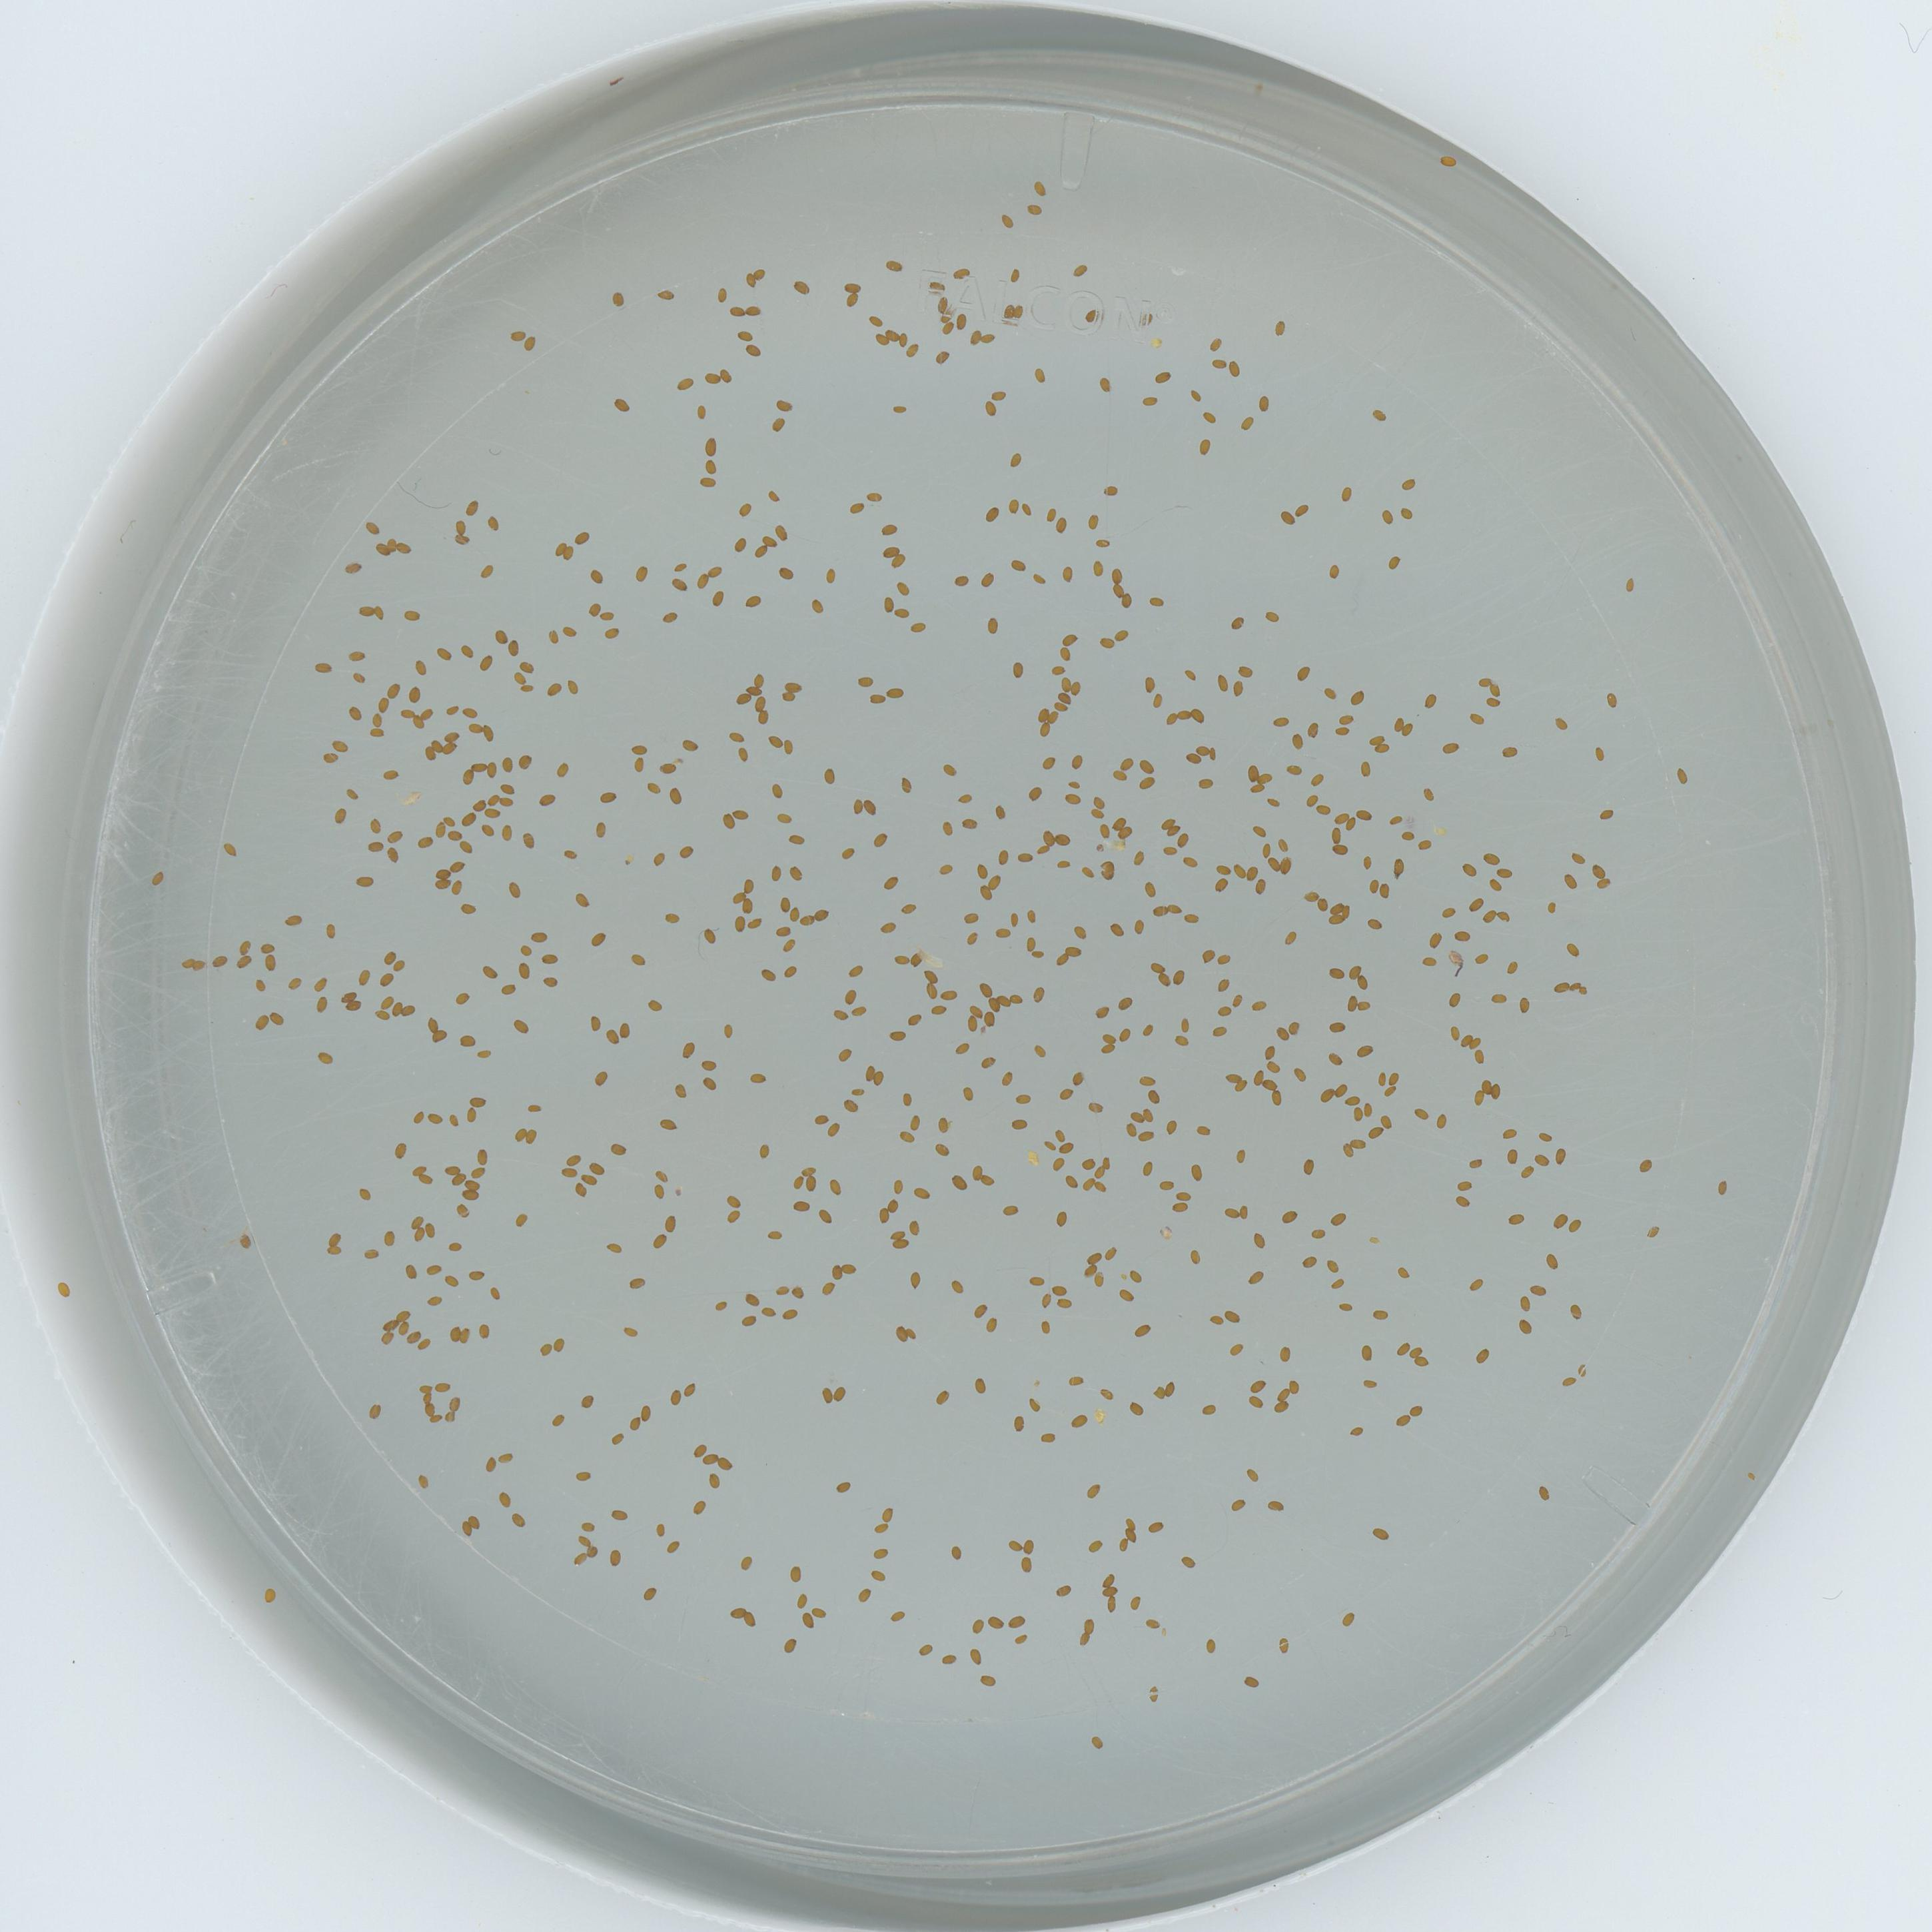seed: (1095, 860, 1116, 883), (701, 435, 722, 455), (1389, 858, 1408, 878), (1081, 306, 1100, 326), (1131, 1318, 1150, 1338), (1069, 1408, 1088, 1428), (1279, 1205, 1299, 1224), (1353, 1039, 1375, 1056), (633, 564, 653, 582), (345, 704, 364, 722), (504, 639, 522, 658), (476, 653, 495, 671), (709, 589, 729, 607), (793, 278, 812, 295), (504, 881, 524, 899), (665, 787, 685, 805), (260, 955, 278, 975), (662, 1214, 679, 1233), (787, 1564, 807, 1582), (587, 1157, 607, 1175), (1465, 895, 1484, 913), (1152, 366, 1171, 384), (1453, 925, 1472, 943), (1253, 395, 1272, 412), (1293, 663, 1313, 681), (1440, 740, 1460, 757), (977, 570, 996, 587), (1327, 1208, 1346, 1226), (1504, 1145, 1522, 1164), (1274, 1345, 1293, 1362), (1007, 1612, 1026, 1629), (1543, 1253, 1562, 1270), (1116, 1284, 1136, 1302), (1249, 1375, 1269, 1392), (1246, 1267, 1265, 1284), (1392, 1339, 1412, 1357), (1185, 1162, 1205, 1180), (883, 874, 901, 892), (678, 844, 695, 862), (678, 373, 695, 391), (331, 736, 349, 754), (591, 929, 609, 947), (681, 736, 699, 754), (872, 832, 890, 849), (600, 789, 617, 807), (766, 732, 784, 750), (366, 817, 384, 835), (745, 341, 763, 359), (593, 821, 610, 839), (745, 593, 763, 610), (564, 678, 582, 695), (870, 690, 888, 708), (736, 747, 754, 764), (863, 800, 881, 817), (433, 1376, 451, 1394), (870, 1566, 888, 1583), (692, 1499, 709, 1516), (591, 1067, 609, 1085), (816, 1205, 833, 1223), (639, 1403, 656, 1421), (474, 1148, 492, 1166), (879, 1504, 897, 1522), (651, 1230, 669, 1247), (607, 1550, 625, 1568), (701, 1072, 718, 1090), (906, 1269, 924, 1286), (738, 1553, 755, 1571), (379, 1228, 396, 1246), (947, 1171, 964, 1189), (1277, 508, 1295, 525), (984, 504, 1001, 522), (1366, 915, 1384, 932), (1024, 786, 1042, 803), (1014, 849, 1031, 867), (1003, 909, 1021, 927), (1338, 485, 1355, 502), (1139, 881, 1157, 899), (1277, 858, 1295, 876), (1189, 708, 1207, 725), (1230, 862, 1247, 879), (1003, 497, 1021, 515), (1010, 1412, 1028, 1430), (966, 1647, 984, 1665), (1127, 1594, 1145, 1612), (1378, 1111, 1396, 1129), (1516, 1316, 1534, 1334), (1051, 1208, 1069, 1226), (1116, 994, 1134, 1012), (1530, 1279, 1548, 1297), (1552, 1210, 1569, 1228), (1325, 1047, 1343, 1065), (1299, 1157, 1316, 1175), (1054, 1295, 1072, 1313), (529, 927, 548, 943), (658, 761, 678, 777), (844, 276, 863, 292), (313, 658, 333, 674), (545, 679, 564, 695), (612, 396, 632, 412), (416, 835, 435, 851), (283, 911, 303, 927), (952, 264, 971, 280), (879, 596, 899, 612), (467, 1265, 487, 1281), (628, 1272, 648, 1288), (609, 1139, 628, 1155), (1008, 662, 1028, 678), (1346, 690, 1366, 706), (1270, 713, 1290, 729), (1460, 863, 1479, 879), (1483, 851, 1502, 867), (1325, 911, 1345, 927), (1336, 711, 1355, 727), (1051, 954, 1070, 970), (1157, 1175, 1177, 1191), (1357, 1343, 1376, 1359), (1223, 1306, 1242, 1322), (1136, 1159, 1155, 1175), (1445, 991, 1465, 1007), (1516, 1295, 1536, 1311), (1060, 1173, 1079, 1189), (1552, 1146, 1571, 1162), (883, 541, 901, 557), (934, 350, 952, 366), (741, 876, 757, 893), (787, 867, 805, 883), (386, 679, 402, 697), (349, 648, 366, 663), (405, 686, 423, 702), (320, 750, 338, 766), (732, 536, 750, 552), (331, 809, 349, 824), (867, 488, 885, 504), (738, 326, 755, 341), (517, 754, 534, 770), (541, 948, 559, 964), (786, 678, 803, 694), (893, 580, 911, 596), (755, 711, 773, 727), (402, 607, 419, 623), (412, 660, 428, 678), (573, 529, 591, 545), (858, 674, 876, 690), (494, 626, 510, 644), (357, 602, 375, 617), (630, 741, 648, 757), (386, 828, 403, 844), (936, 862, 954, 878), (934, 294, 950, 311), (888, 683, 906, 699), (464, 722, 481, 738), (881, 918, 899, 934), (343, 787, 361, 803), (778, 564, 796, 580), (708, 563, 725, 579), (587, 568, 605, 584), (886, 255, 904, 271), (508, 327, 525, 343), (731, 915, 748, 931), (694, 403, 711, 419), (747, 915, 764, 931), (780, 690, 798, 706), (939, 821, 955, 839), (520, 833, 538, 849), (586, 600, 603, 616), (729, 729, 747, 745), (538, 793, 556, 809), (775, 524, 793, 540), (658, 285, 676, 301), (729, 303, 747, 318), (469, 757, 487, 773), (904, 340, 922, 356), (366, 839, 384, 855), (672, 577, 690, 593), (849, 499, 867, 515), (899, 778, 916, 794), (554, 763, 571, 778), (775, 396, 793, 412), (768, 867, 786, 883), (464, 499, 481, 515), (444, 702, 462, 718), (354, 874, 372, 890), (380, 950, 398, 966), (702, 458, 720, 474), (720, 814, 738, 830), (823, 570, 840, 586), (258, 938, 276, 954), (646, 780, 663, 796), (485, 515, 502, 531), (823, 768, 839, 786), (775, 897, 793, 913), (766, 488, 784, 504), (368, 727, 386, 743), (221, 842, 239, 858), (929, 1000, 947, 1016), (924, 984, 941, 1000), (729, 1603, 747, 1619), (932, 1139, 950, 1155), (939, 985, 957, 1001), (311, 996, 329, 1012), (874, 1545, 892, 1560), (315, 1047, 333, 1063), (651, 1522, 669, 1537), (679, 1042, 697, 1058), (750, 1067, 768, 1083), (906, 1217, 924, 1233), (586, 1016, 603, 1031), (837, 1044, 855, 1060), (793, 1196, 810, 1212), (446, 1394, 464, 1410), (844, 987, 862, 1003), (510, 1511, 527, 1527), (890, 1177, 908, 1192), (775, 1279, 793, 1295), (579, 1392, 596, 1408), (906, 1010, 924, 1026), (851, 1001, 869, 1017), (821, 1279, 839, 1295), (402, 1263, 419, 1279), (934, 1387, 950, 1405), (610, 1506, 628, 1522), (379, 1330, 396, 1346), (667, 1387, 683, 1405), (782, 1638, 800, 1654), (672, 1081, 690, 1097), (441, 1272, 458, 1288), (391, 1143, 409, 1159), (425, 1260, 442, 1276), (913, 1182, 931, 1198), (354, 970, 372, 985), (253, 1014, 271, 1030), (800, 1612, 816, 1629), (755, 1141, 773, 1157), (513, 1017, 531, 1033), (458, 1031, 476, 1047), (708, 1472, 724, 1490), (663, 1537, 681, 1553), (725, 1191, 743, 1207), (741, 1311, 759, 1327), (446, 1238, 464, 1254), (660, 1113, 678, 1129), (828, 1177, 846, 1192), (55, 1281, 73, 1297), (258, 1587, 276, 1603), (994, 849, 1012, 865), (1378, 508, 1394, 525), (1067, 754, 1085, 770), (1421, 694, 1438, 709), (1426, 931, 1444, 947), (1263, 796, 1281, 812), (1304, 722, 1322, 738), (1146, 594, 1164, 610), (1440, 904, 1458, 920), (1106, 566, 1123, 582), (1281, 929, 1299, 945), (1108, 920, 1125, 936), (1053, 832, 1070, 847), (1180, 855, 1198, 870), (1063, 793, 1081, 809), (1088, 561, 1106, 577), (1021, 936, 1039, 952), (1138, 757, 1154, 775), (1008, 557, 1026, 573), (1116, 754, 1134, 770), (1047, 662, 1065, 678), (1196, 775, 1214, 791), (1200, 409, 1217, 425), (1054, 646, 1072, 662), (1591, 863, 1608, 879), (1237, 662, 1253, 679), (1288, 734, 1306, 750), (1030, 366, 1047, 382), (1562, 874, 1580, 890), (1254, 842, 1270, 860), (1302, 888, 1320, 904), (1355, 807, 1373, 823), (1674, 768, 1691, 784), (1598, 807, 1615, 823), (1129, 851, 1146, 867), (1007, 451, 1024, 467), (1500, 745, 1518, 761), (1249, 823, 1267, 839), (1214, 674, 1230, 692), (1226, 361, 1244, 377), (1479, 908, 1497, 924), (1063, 941, 1081, 957), (1139, 674, 1155, 692), (1024, 200, 1042, 216), (1566, 939, 1582, 957), (1198, 947, 1215, 962), (1230, 679, 1246, 697), (1355, 761, 1373, 777), (1244, 764, 1260, 782), (1030, 179, 1047, 195), (1031, 708, 1049, 724), (1476, 674, 1493, 690), (1079, 1155, 1097, 1171), (1210, 1023, 1228, 1039), (1049, 1154, 1065, 1171), (1532, 1152, 1550, 1168), (1329, 1017, 1346, 1033), (1490, 989, 1507, 1005), (1534, 1484, 1552, 1500), (1334, 1079, 1350, 1097), (1136, 1069, 1154, 1085), (1037, 1428, 1054, 1444), (1053, 1582, 1070, 1598), (1412, 1104, 1430, 1120), (1230, 1495, 1247, 1511), (1339, 1612, 1357, 1628), (977, 980, 993, 998), (1290, 1065, 1307, 1081), (1371, 1525, 1389, 1541), (1366, 1125, 1384, 1141), (1336, 1299, 1353, 1315), (1507, 1208, 1525, 1224), (1474, 1346, 1491, 1362), (1260, 1044, 1277, 1060), (1247, 1392, 1263, 1410), (1067, 1069, 1085, 1085), (998, 1069, 1016, 1085), (1056, 1085, 1074, 1100), (1017, 1555, 1033, 1573), (1714, 1178, 1732, 1194), (1261, 1076, 1279, 1092), (1249, 1231, 1267, 1247), (1299, 1253, 1316, 1269), (1267, 1497, 1284, 1513), (1242, 1674, 1260, 1690), (1083, 1483, 1100, 1499), (1467, 1154, 1484, 1169), (1394, 1412, 1412, 1428), (1085, 1537, 1102, 1553), (1343, 1092, 1361, 1108), (1456, 1177, 1474, 1192), (978, 1672, 996, 1688), (1125, 1399, 1143, 1415), (1267, 1088, 1284, 1104), (1065, 1371, 1083, 1387), (1371, 1304, 1389, 1320), (1568, 1217, 1585, 1233), (1327, 966, 1345, 982), (1274, 1638, 1292, 1654), (1520, 1162, 1537, 1178), (1085, 1099, 1102, 1115), (978, 1171, 996, 1187), (1169, 1198, 1187, 1214), (1221, 1203, 1238, 1219), (193, 957, 211, 973), (1145, 1688, 1162, 1704), (432, 819, 446, 839), (458, 812, 478, 826), (517, 961, 531, 980), (460, 1191, 479, 1205), (1472, 1088, 1486, 1108), (901, 901, 916, 916), (462, 704, 478, 720), (715, 287, 731, 303), (458, 842, 474, 858), (575, 893, 591, 909), (867, 311, 883, 327), (754, 697, 770, 713), (651, 851, 667, 867), (883, 520, 899, 536), (545, 630, 561, 646), (741, 899, 757, 915), (322, 922, 338, 938), (501, 757, 517, 773), (734, 807, 750, 823), (701, 476, 717, 492), (435, 646, 451, 662), (771, 416, 787, 432), (350, 671, 366, 686), (704, 370, 720, 386), (770, 784, 786, 800), (451, 860, 467, 876), (375, 697, 391, 713), (702, 927, 718, 943), (458, 770, 474, 786), (455, 533, 471, 548), (849, 800, 865, 816), (789, 832, 805, 847), (939, 320, 955, 336), (782, 740, 798, 755), (816, 906, 832, 922), (810, 598, 826, 614), (421, 747, 437, 763), (777, 812, 793, 828), (384, 847, 400, 863), (954, 571, 970, 587), (524, 334, 540, 350), (718, 366, 734, 382), (846, 292, 862, 308), (479, 823, 495, 839), (632, 759, 648, 775), (610, 290, 626, 306), (481, 725, 497, 741), (899, 1129, 915, 1145), (683, 1380, 699, 1396), (580, 1516, 596, 1532), (791, 1173, 807, 1189), (476, 1322, 492, 1338), (858, 1587, 874, 1603), (793, 1283, 809, 1299), (363, 1244, 379, 1260), (287, 975, 303, 991), (462, 1106, 478, 1122), (648, 996, 663, 1012), (715, 1297, 731, 1313), (453, 1203, 469, 1219), (888, 1196, 904, 1212), (642, 1585, 658, 1601), (497, 1449, 513, 1465), (948, 1277, 964, 1293), (617, 1021, 633, 1037), (761, 966, 777, 982), (794, 1592, 810, 1608), (941, 1651, 957, 1667), (692, 1440, 708, 1456), (426, 1292, 442, 1307), (356, 1185, 372, 1201), (782, 1306, 798, 1322), (655, 1166, 671, 1182), (768, 1224, 784, 1240), (899, 1090, 915, 1106), (552, 1336, 568, 1352), (497, 1490, 513, 1506), (251, 977, 267, 993), (842, 1258, 858, 1274), (833, 1005, 849, 1021), (936, 1116, 952, 1132), (395, 1304, 410, 1320), (513, 1210, 529, 1226), (366, 1403, 382, 1419), (805, 1175, 821, 1191), (418, 1171, 433, 1187), (623, 1322, 639, 1338), (745, 1292, 761, 1307), (407, 1214, 423, 1230), (924, 968, 939, 984), (269, 1010, 285, 1026), (812, 1605, 828, 1621), (524, 1127, 540, 1143), (890, 1026, 906, 1042), (423, 1221, 439, 1237), (826, 1120, 842, 1136), (918, 1640, 934, 1656), (603, 1030, 619, 1046), (833, 1385, 849, 1401), (446, 1325, 462, 1341), (510, 1125, 525, 1141), (379, 993, 395, 1008), (414, 1474, 430, 1490), (1166, 901, 1182, 916), (1569, 851, 1585, 867), (1100, 483, 1116, 499), (987, 876, 1003, 892), (1182, 909, 1198, 925), (1196, 437, 1212, 453), (1214, 862, 1230, 878), (1398, 504, 1414, 520), (1053, 517, 1069, 533), (1322, 686, 1338, 702), (1085, 513, 1100, 529), (1131, 918, 1146, 934), (1238, 414, 1254, 430), (1332, 842, 1348, 858), (1274, 839, 1290, 855), (1417, 837, 1433, 853), (977, 886, 993, 902), (1070, 924, 1086, 939), (985, 617, 1001, 633), (1591, 745, 1606, 761), (1007, 265, 1023, 281), (1468, 709, 1484, 725), (1253, 879, 1269, 895), (1138, 777, 1154, 793), (1387, 812, 1403, 828), (1000, 212, 1016, 228), (1309, 771, 1325, 787), (1070, 260, 1086, 276), (982, 400, 998, 416), (1228, 616, 1244, 632), (1263, 609, 1279, 625), (1150, 902, 1166, 918), (1214, 879, 1230, 895), (1265, 858, 1281, 874), (1401, 474, 1417, 490), (1058, 566, 1074, 582), (1553, 717, 1569, 732), (1315, 803, 1330, 819), (1270, 318, 1286, 334), (1208, 356, 1224, 372), (991, 386, 1007, 402), (1399, 828, 1415, 844), (1187, 387, 1203, 403), (991, 803, 1007, 819), (1182, 667, 1198, 683), (1332, 809, 1348, 824), (1090, 794, 1106, 810), (1371, 407, 1387, 423), (1378, 883, 1394, 899), (973, 863, 989, 879), (1039, 755, 1054, 771), (1039, 830, 1054, 846), (1419, 787, 1435, 803), (1622, 577, 1638, 593), (1605, 692, 1621, 708), (970, 1617, 985, 1633), (1001, 1201, 1017, 1217), (1146, 1518, 1162, 1534), (1348, 1422, 1364, 1438), (1341, 996, 1357, 1012), (1139, 1021, 1155, 1037), (1145, 1088, 1161, 1104), (1058, 1139, 1074, 1155), (1162, 1118, 1178, 1134), (1010, 1115, 1026, 1131), (980, 1053, 996, 1069), (1286, 1378, 1302, 1394), (1201, 1638, 1217, 1654), (1093, 1003, 1109, 1019), (1024, 1398, 1040, 1414), (1051, 1281, 1067, 1297), (1207, 1311, 1223, 1327), (1468, 1276, 1484, 1292), (1244, 1467, 1260, 1483), (982, 1316, 998, 1332), (1088, 1734, 1104, 1750), (1309, 1224, 1325, 1240), (1568, 1302, 1583, 1318), (1233, 1146, 1249, 1162), (1249, 1070, 1265, 1086), (1012, 1631, 1028, 1647), (1185, 1247, 1201, 1263), (987, 1614, 1003, 1629), (1516, 996, 1532, 1012), (1116, 1026, 1132, 1042), (1097, 1385, 1113, 1401), (1171, 1031, 1187, 1047), (1178, 1553, 1194, 1569), (1079, 1617, 1095, 1633), (1051, 1125, 1067, 1141), (1355, 975, 1371, 991), (1408, 1401, 1424, 1417), (1638, 1155, 1654, 1171), (1007, 1537, 1023, 1553), (1037, 1318, 1053, 1334), (973, 1300, 989, 1316), (1470, 1047, 1486, 1063), (971, 1376, 987, 1392), (1433, 1111, 1449, 1127), (1645, 1223, 1661, 1238), (1102, 1244, 1118, 1260), (1357, 996, 1373, 1012), (1030, 985, 1046, 1001), (1122, 1120, 1138, 1136), (1454, 1192, 1470, 1208), (1175, 1016, 1191, 1031), (1318, 1088, 1334, 1104), (968, 1164, 984, 1180), (1141, 1106, 1157, 1122), (987, 998, 1003, 1014), (1074, 1631, 1090, 1647), (149, 870, 165, 886), (237, 1235, 253, 1251), (442, 729, 460, 743), (745, 683, 763, 697), (736, 694, 754, 708), (775, 924, 793, 938), (630, 950, 648, 964), (478, 564, 495, 579), (458, 644, 476, 658), (451, 518, 469, 533), (603, 626, 621, 640), (745, 303, 763, 317), (763, 534, 780, 548), (345, 561, 363, 575), (600, 609, 617, 623), (927, 278, 945, 292), (442, 812, 456, 830), (432, 865, 449, 879), (211, 954, 228, 968), (433, 879, 451, 893), (469, 1092, 487, 1106), (701, 1056, 718, 1070), (605, 1240, 623, 1254), (575, 1468, 593, 1483), (906, 1115, 924, 1129), (311, 977, 329, 991), (453, 991, 471, 1005), (410, 1162, 428, 1177), (444, 1161, 462, 1175), (564, 1150, 582, 1164), (476, 1044, 494, 1058), (842, 1097, 860, 1111), (525, 1099, 543, 1113), (340, 989, 357, 1003), (741, 1614, 759, 1628), (862, 1063, 876, 1081), (430, 1028, 448, 1042), (570, 1182, 587, 1196), (1325, 828, 1343, 842), (993, 925, 1010, 939), (1161, 846, 1178, 860), (1060, 632, 1077, 646), (1111, 628, 1129, 642), (1543, 901, 1560, 915), (1284, 763, 1302, 777), (1474, 950, 1491, 964), (1116, 826, 1134, 840), (1368, 731, 1385, 745), (1215, 950, 1233, 964), (1095, 377, 1113, 391), (1028, 947, 1046, 961), (1323, 564, 1341, 579), (1486, 879, 1504, 893), (1332, 725, 1350, 740), (1095, 637, 1113, 651), (1486, 683, 1504, 697), (1246, 863, 1260, 881), (1313, 897, 1330, 911), (961, 817, 978, 832), (957, 791, 975, 805), (1385, 1069, 1403, 1083), (1026, 1272, 1044, 1286), (1143, 1615, 1161, 1629), (1249, 998, 1267, 1012), (1329, 1276, 1346, 1290), (1028, 1042, 1046, 1056), (1224, 1069, 1242, 1083), (1536, 1129, 1553, 1143), (1560, 1373, 1578, 1387), (1125, 1267, 1143, 1281), (1014, 1090, 1031, 1104), (1338, 1143, 1355, 1157), (1500, 1125, 1518, 1139), (1394, 1265, 1412, 1279), (1412, 1355, 1430, 1369), (1148, 961, 1166, 975), (962, 1085, 977, 1102), (179, 957, 196, 971), (561, 1166, 580, 1178), (343, 998, 363, 1010), (966, 1014, 978, 1033), (1341, 901, 1353, 920), (499, 782, 515, 796), (364, 520, 380, 534), (510, 669, 525, 683), (382, 768, 398, 782), (487, 793, 501, 809), (449, 881, 465, 895), (729, 892, 745, 906), (563, 623, 577, 639), (941, 763, 957, 777), (375, 545, 391, 559), (743, 272, 757, 288), (842, 846, 858, 860), (787, 908, 803, 922), (460, 901, 476, 915), (890, 556, 906, 570), (485, 809, 501, 823), (446, 828, 462, 842), (419, 706, 435, 720), (517, 943, 533, 957), (663, 610, 679, 625), (893, 607, 909, 621), (370, 713, 386, 727), (874, 333, 890, 347), (237, 939, 253, 954), (396, 541, 412, 556), (754, 265, 768, 281), (895, 950, 911, 964), (518, 658, 534, 672), (754, 545, 770, 559), (563, 847, 579, 862), (485, 764, 499, 780), (663, 909, 679, 924), (909, 619, 925, 633), (782, 938, 798, 952), (738, 502, 754, 517), (471, 798, 487, 812), (695, 575, 711, 589), (499, 826, 515, 840), (499, 796, 515, 810), (674, 559, 688, 575), (752, 671, 768, 685), (890, 1610, 906, 1624), (543, 975, 559, 989), (426, 1109, 442, 1123), (481, 1456, 497, 1470), (416, 1338, 432, 1352), (471, 1166, 487, 1180), (653, 1184, 669, 1198), (626, 1415, 642, 1430), (395, 1320, 410, 1334), (550, 1412, 566, 1426), (947, 1546, 962, 1560), (837, 1479, 853, 1493), (784, 966, 800, 980), (458, 1522, 472, 1537), (446, 1111, 462, 1125), (481, 964, 497, 978), (488, 1286, 504, 1300), (586, 1545, 602, 1559), (501, 982, 517, 996), (702, 1453, 718, 1467), (725, 1208, 741, 1223), (718, 1456, 734, 1470), (761, 1304, 777, 1318), (610, 1431, 626, 1445), (878, 1207, 892, 1223), (819, 1387, 833, 1403), (851, 1083, 867, 1097), (577, 1534, 593, 1548), (410, 1108, 425, 1123), (402, 1001, 418, 1016), (893, 1325, 908, 1341), (538, 1343, 554, 1357), (849, 966, 865, 980), (874, 1520, 890, 1534), (425, 1017, 441, 1031), (379, 971, 395, 985), (327, 1230, 343, 1244), (382, 1318, 398, 1332), (469, 1514, 483, 1530), (405, 1330, 421, 1345), (904, 1325, 918, 1341), (571, 1550, 587, 1564), (460, 1329, 474, 1345), (1497, 909, 1513, 924), (1019, 502, 1035, 517), (1359, 855, 1375, 869), (1023, 909, 1039, 924), (1054, 858, 1070, 872), (1033, 844, 1049, 858), (1040, 506, 1056, 520), (1093, 536, 1109, 550), (1497, 865, 1513, 879), (1118, 594, 1134, 609), (1088, 809, 1104, 823), (1093, 824, 1109, 839), (1065, 778, 1081, 793), (1207, 336, 1223, 350), (1028, 571, 1044, 586), (1364, 879, 1378, 895), (1293, 502, 1309, 517), (1387, 556, 1401, 571), (1108, 584, 1123, 598), (1304, 793, 1320, 807), (1484, 697, 1500, 711), (1035, 724, 1051, 738), (1148, 694, 1164, 708), (966, 329, 980, 345), (966, 929, 980, 945), (1111, 770, 1127, 784), (1141, 395, 1157, 409), (1175, 833, 1191, 847), (1438, 154, 1454, 168), (1161, 713, 1177, 727), (1192, 741, 1208, 755), (1256, 771, 1272, 786), (1014, 304, 1028, 320), (980, 329, 996, 343), (1008, 989, 1024, 1003), (1100, 1571, 1116, 1585), (1023, 1537, 1037, 1553), (1214, 977, 1230, 991), (1265, 1058, 1281, 1072), (1274, 1387, 1290, 1401), (1035, 1293, 1051, 1307), (1228, 1341, 1244, 1355), (1362, 1376, 1378, 1391), (1100, 1028, 1116, 1042), (1138, 1127, 1154, 1141), (1553, 978, 1569, 993), (1286, 1019, 1302, 1033), (1162, 1382, 1178, 1396), (982, 1010, 996, 1026), (1194, 1122, 1210, 1136), (1200, 1401, 1215, 1415), (1085, 1247, 1100, 1261), (1077, 1177, 1093, 1191), (1215, 1003, 1231, 1017), (1447, 1026, 1461, 1042), (1237, 1203, 1251, 1219), (1490, 1083, 1506, 1097), (1154, 973, 1169, 987), (1274, 1026, 1290, 1040), (1042, 1138, 1058, 1152), (1408, 1343, 1424, 1357), (1171, 970, 1187, 984), (1233, 1079, 1249, 1093), (968, 1001, 982, 1017), (1104, 1598, 1118, 1614), (1323, 1258, 1339, 1272), (1230, 993, 1246, 1007), (1350, 1134, 1366, 1148), (1090, 1272, 1106, 1286), (1083, 1263, 1099, 1277), (1578, 982, 1594, 996), (1000, 304, 1014, 320), (1138, 313, 1154, 327), (441, 743, 458, 755), (416, 1382, 433, 1394), (893, 1237, 911, 1249), (1184, 755, 1201, 768), (1173, 1187, 1191, 1200), (1378, 1085, 1396, 1097), (419, 1394, 437, 1407), (235, 957, 255, 968), (909, 952, 924, 966), (816, 1109, 830, 1123), (874, 1070, 888, 1085), (722, 1023, 736, 1037), (410, 1228, 425, 1242), (955, 1040, 970, 1054), (389, 1003, 403, 1017), (327, 1244, 341, 1258), (1111, 816, 1125, 830), (964, 911, 978, 925), (1401, 724, 1415, 738), (1056, 678, 1070, 692), (1345, 817, 1359, 832), (1069, 681, 1083, 695), (1389, 718, 1403, 732), (1329, 901, 1343, 915), (1362, 1100, 1376, 1115), (1115, 1537, 1129, 1552), (1350, 1108, 1364, 1122), (1093, 1178, 1108, 1192), (1373, 1072, 1387, 1086), (1129, 1109, 1143, 1123), (1100, 1154, 1115, 1168), (1092, 1164, 1106, 1178), (1575, 1362, 1589, 1376), (1122, 1516, 1136, 1530), (998, 994, 1012, 1008), (1470, 1035, 1484, 1049), (396, 708, 412, 720), (410, 718, 426, 731), (892, 402, 908, 414), (518, 683, 534, 695), (373, 605, 386, 621), (373, 1008, 389, 1021), (442, 1410, 458, 1422), (582, 1173, 598, 1185), (832, 1263, 844, 1279), (465, 1178, 481, 1191), (1175, 708, 1191, 720), (1077, 867, 1093, 879), (1166, 826, 1182, 839), (1596, 878, 1612, 890), (1373, 743, 1389, 755), (1161, 817, 1177, 830), (1208, 747, 1221, 763), (1272, 1401, 1288, 1414), (1346, 966, 1362, 978), (1247, 786, 1265, 796), (899, 331, 909, 349), (801, 915, 816, 927), (428, 738, 442, 750), (886, 329, 899, 343), (563, 545, 575, 559), (423, 1403, 435, 1417), (451, 1173, 465, 1185), (801, 1162, 816, 1175), (1047, 711, 1062, 724), (1058, 692, 1072, 704), (1479, 1079, 1491, 1093), (1100, 1042, 1115, 1054), (1568, 978, 1582, 991), (1460, 1033, 1472, 1047), (1419, 955, 1438, 964), (890, 1228, 906, 1238), (1125, 1527, 1136, 1543), (936, 313, 952, 324), (955, 311, 964, 329), (554, 541, 564, 556), (384, 538, 398, 548), (428, 1414, 442, 1424), (1054, 701, 1069, 711), (1102, 1587, 1116, 1598), (1504, 966, 1520, 975), (1746, 1468, 1757, 1481)
